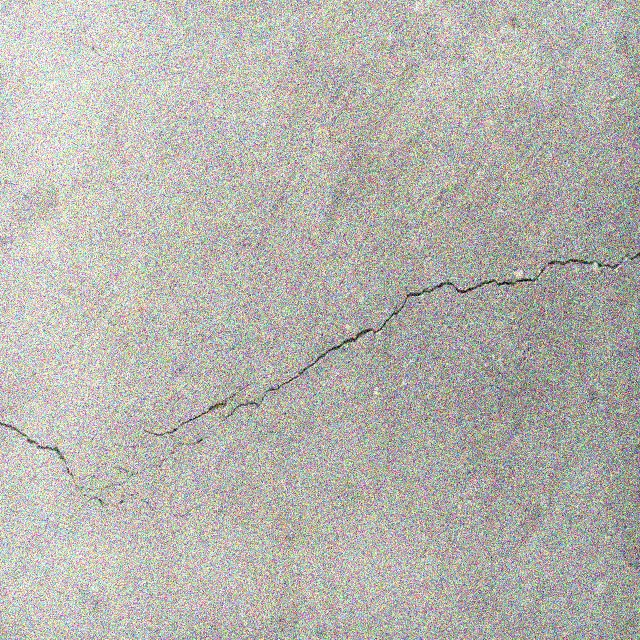SurfaceCrack: (1, 215, 640, 511)
